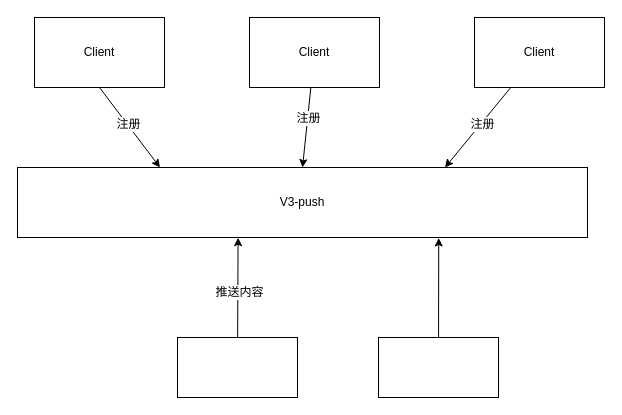
Some shapes in this 622 by 415 pixel diagram are drawn without their labels. Each missing label, with the centre of its shape:
订单模块...: point 237,367
通知模块: point 438,367
